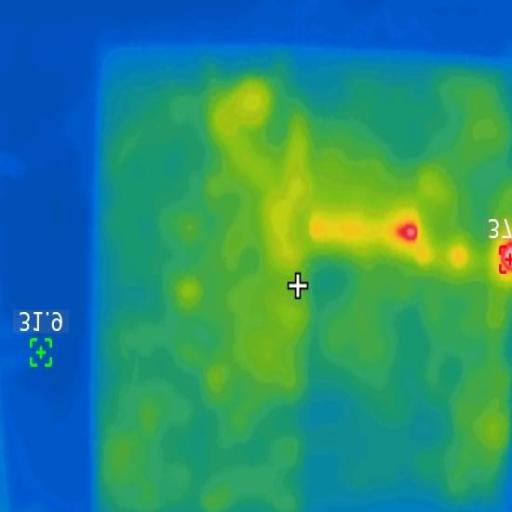hotspot: (497, 237, 511, 279), (396, 222, 422, 244)
